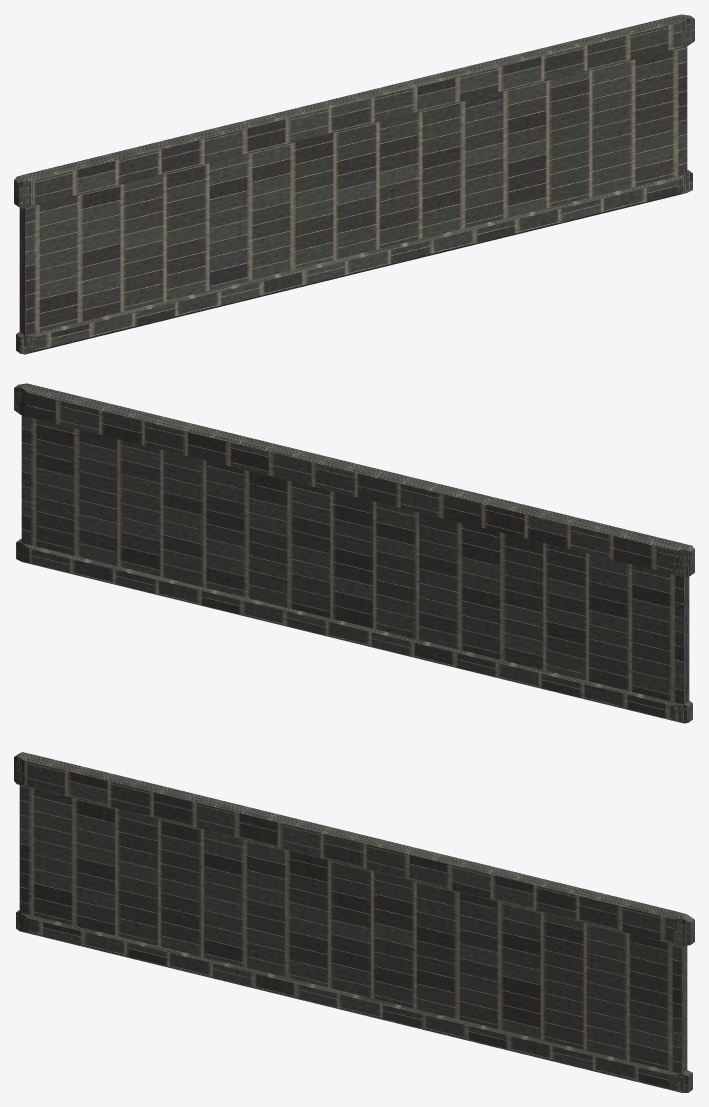
File: wall.gltf
The picture shows the model from 3 angles, top to bottom: view 1: azimuth 30°, elevation 25°; view 2: azimuth 150°, elevation 25°; view 3: azimuth 330°, elevation 25°; orthographic projection.
Parts seen in each view (by area): view 1: Cube; view 2: Cube; view 3: Cube.
Boxes of the visible parts, x1,y1,x2,y2 form: Cube: (14,14,694,354); Cube: (14,383,694,723); Cube: (14,752,694,1092).
Bounding box in the file's own units: 44.38 × 10.95 × 1.02.
1 material, 1 textured.
